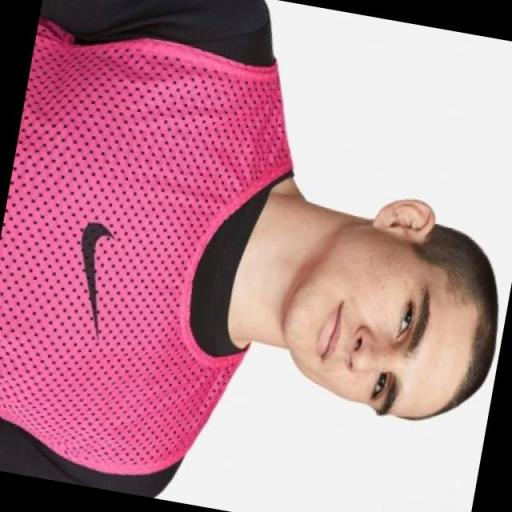Nike: (54, 209, 128, 356)
